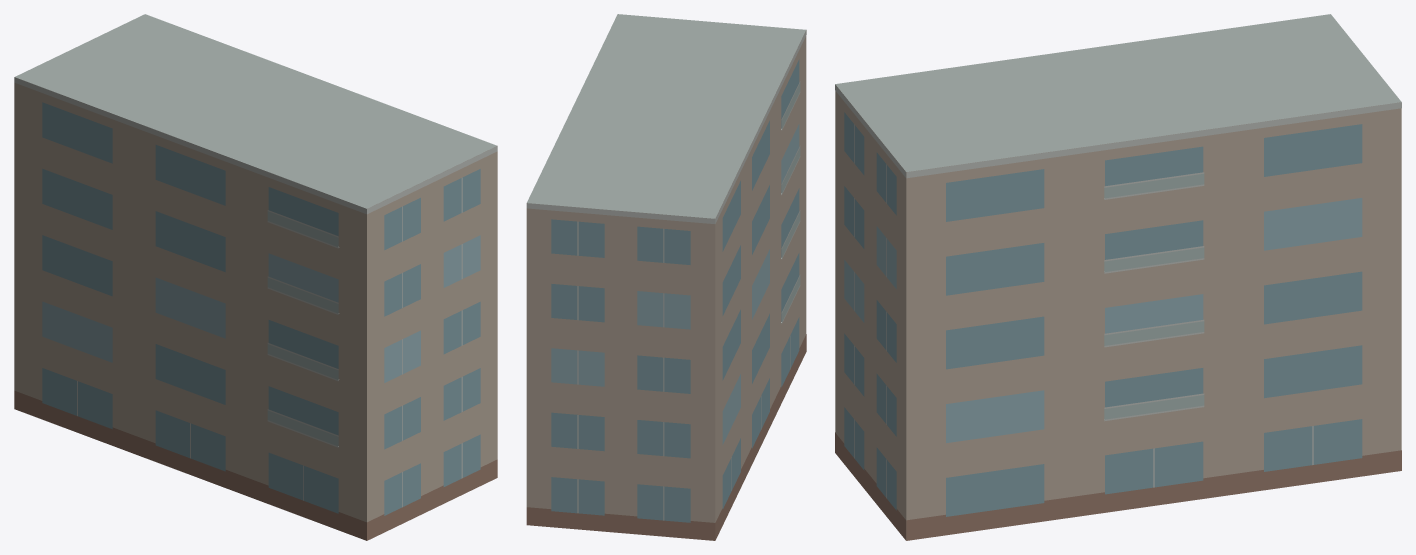
Rendered from survey-upis-32699238.glb.
3 renders of one model, left to right at view 1: azimuth 30°, elevation 25°; view 2: azimuth 150°, elevation 25°; view 3: azimuth 270°, elevation 25°, orthographic. The views are drawn at different scales.
Parts seen in each view (by area): view 1: survey-upis-32699238.tmp; view 2: survey-upis-32699238.tmp; view 3: survey-upis-32699238.tmp.
Boxes of the visible parts, box(x1,y1,x2,y2) form: survey-upis-32699238.tmp: box(14, 14, 497, 540); survey-upis-32699238.tmp: box(526, 14, 806, 540); survey-upis-32699238.tmp: box(835, 14, 1401, 540).
Bounding box in the file's own units: 13.44 × 14.6 × 20.34.
